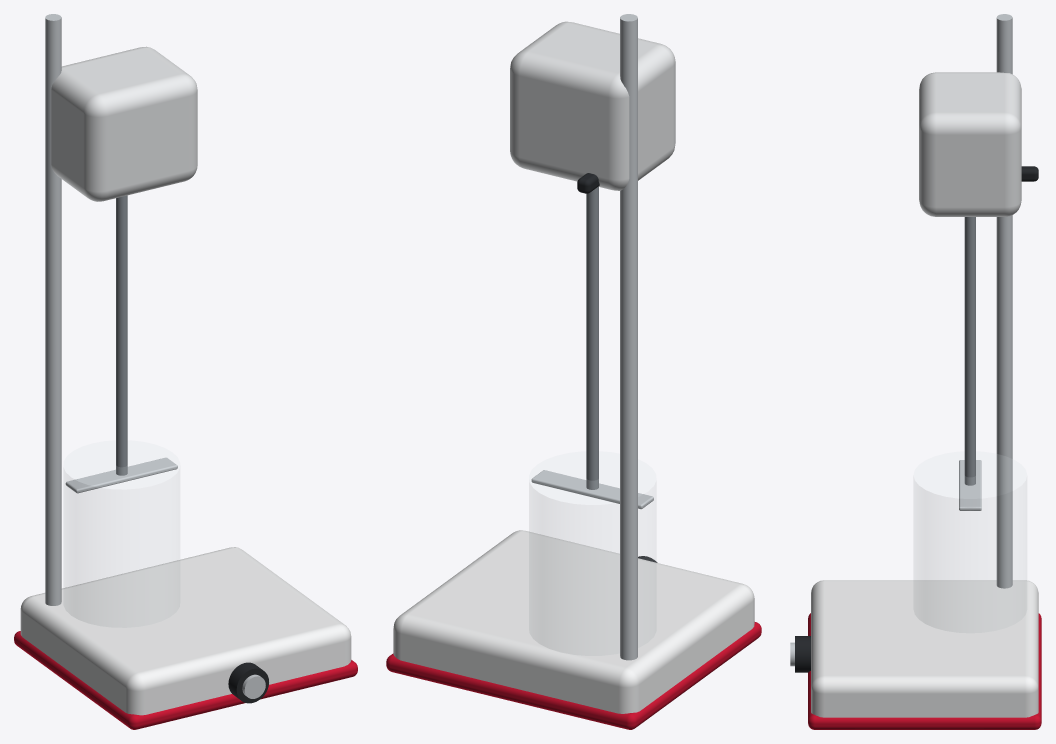
The model's file is nmk-1.glb.
3 views of the same model, side by side, from view 1: azimuth 30°, elevation 25°; view 2: azimuth 150°, elevation 25°; view 3: azimuth 270°, elevation 25° (orthographic). The views are drawn at different scales.
Bounding box in the file's own units: 0.225 × 0.6 × 0.2205.
